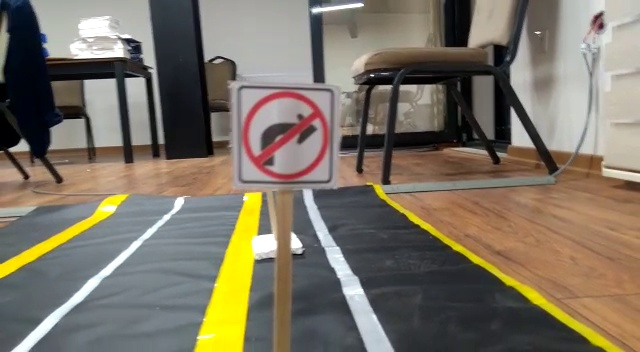saga_donulmez: (237, 83, 330, 180)
